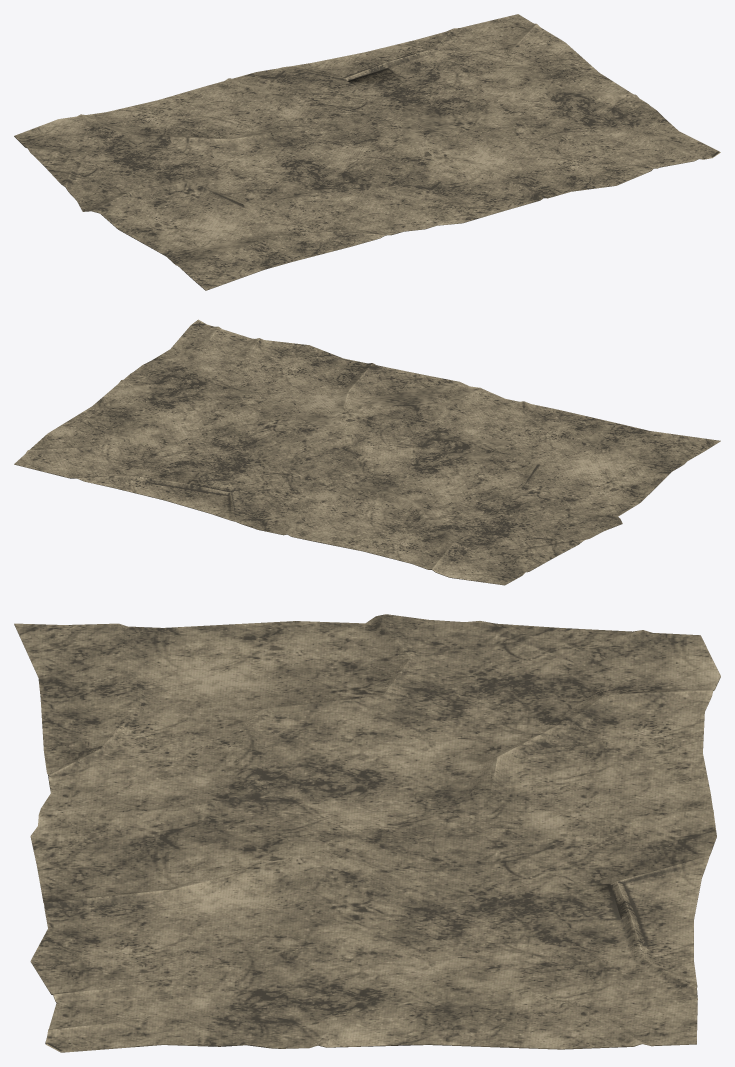
File: Rag02.FBX
3 renders of one model, top to bottom at view 1: azimuth 30°, elevation 25°; view 2: azimuth 150°, elevation 25°; view 3: azimuth 270°, elevation 25°, orthographic. The views are drawn at different scales.
Visible parts, largest first — view 1: Rag02_LOD0; view 2: Rag02_LOD0; view 3: Rag02_LOD0.
Part boxes in pixels (box(x1,y1,x2,y2)): Rag02_LOD0: box(14, 14, 720, 290); Rag02_LOD0: box(14, 319, 720, 585); Rag02_LOD0: box(14, 614, 720, 1052).
Size of what is drawn, in the model's own units: 35.31 by 0.5481 by 24.09.
